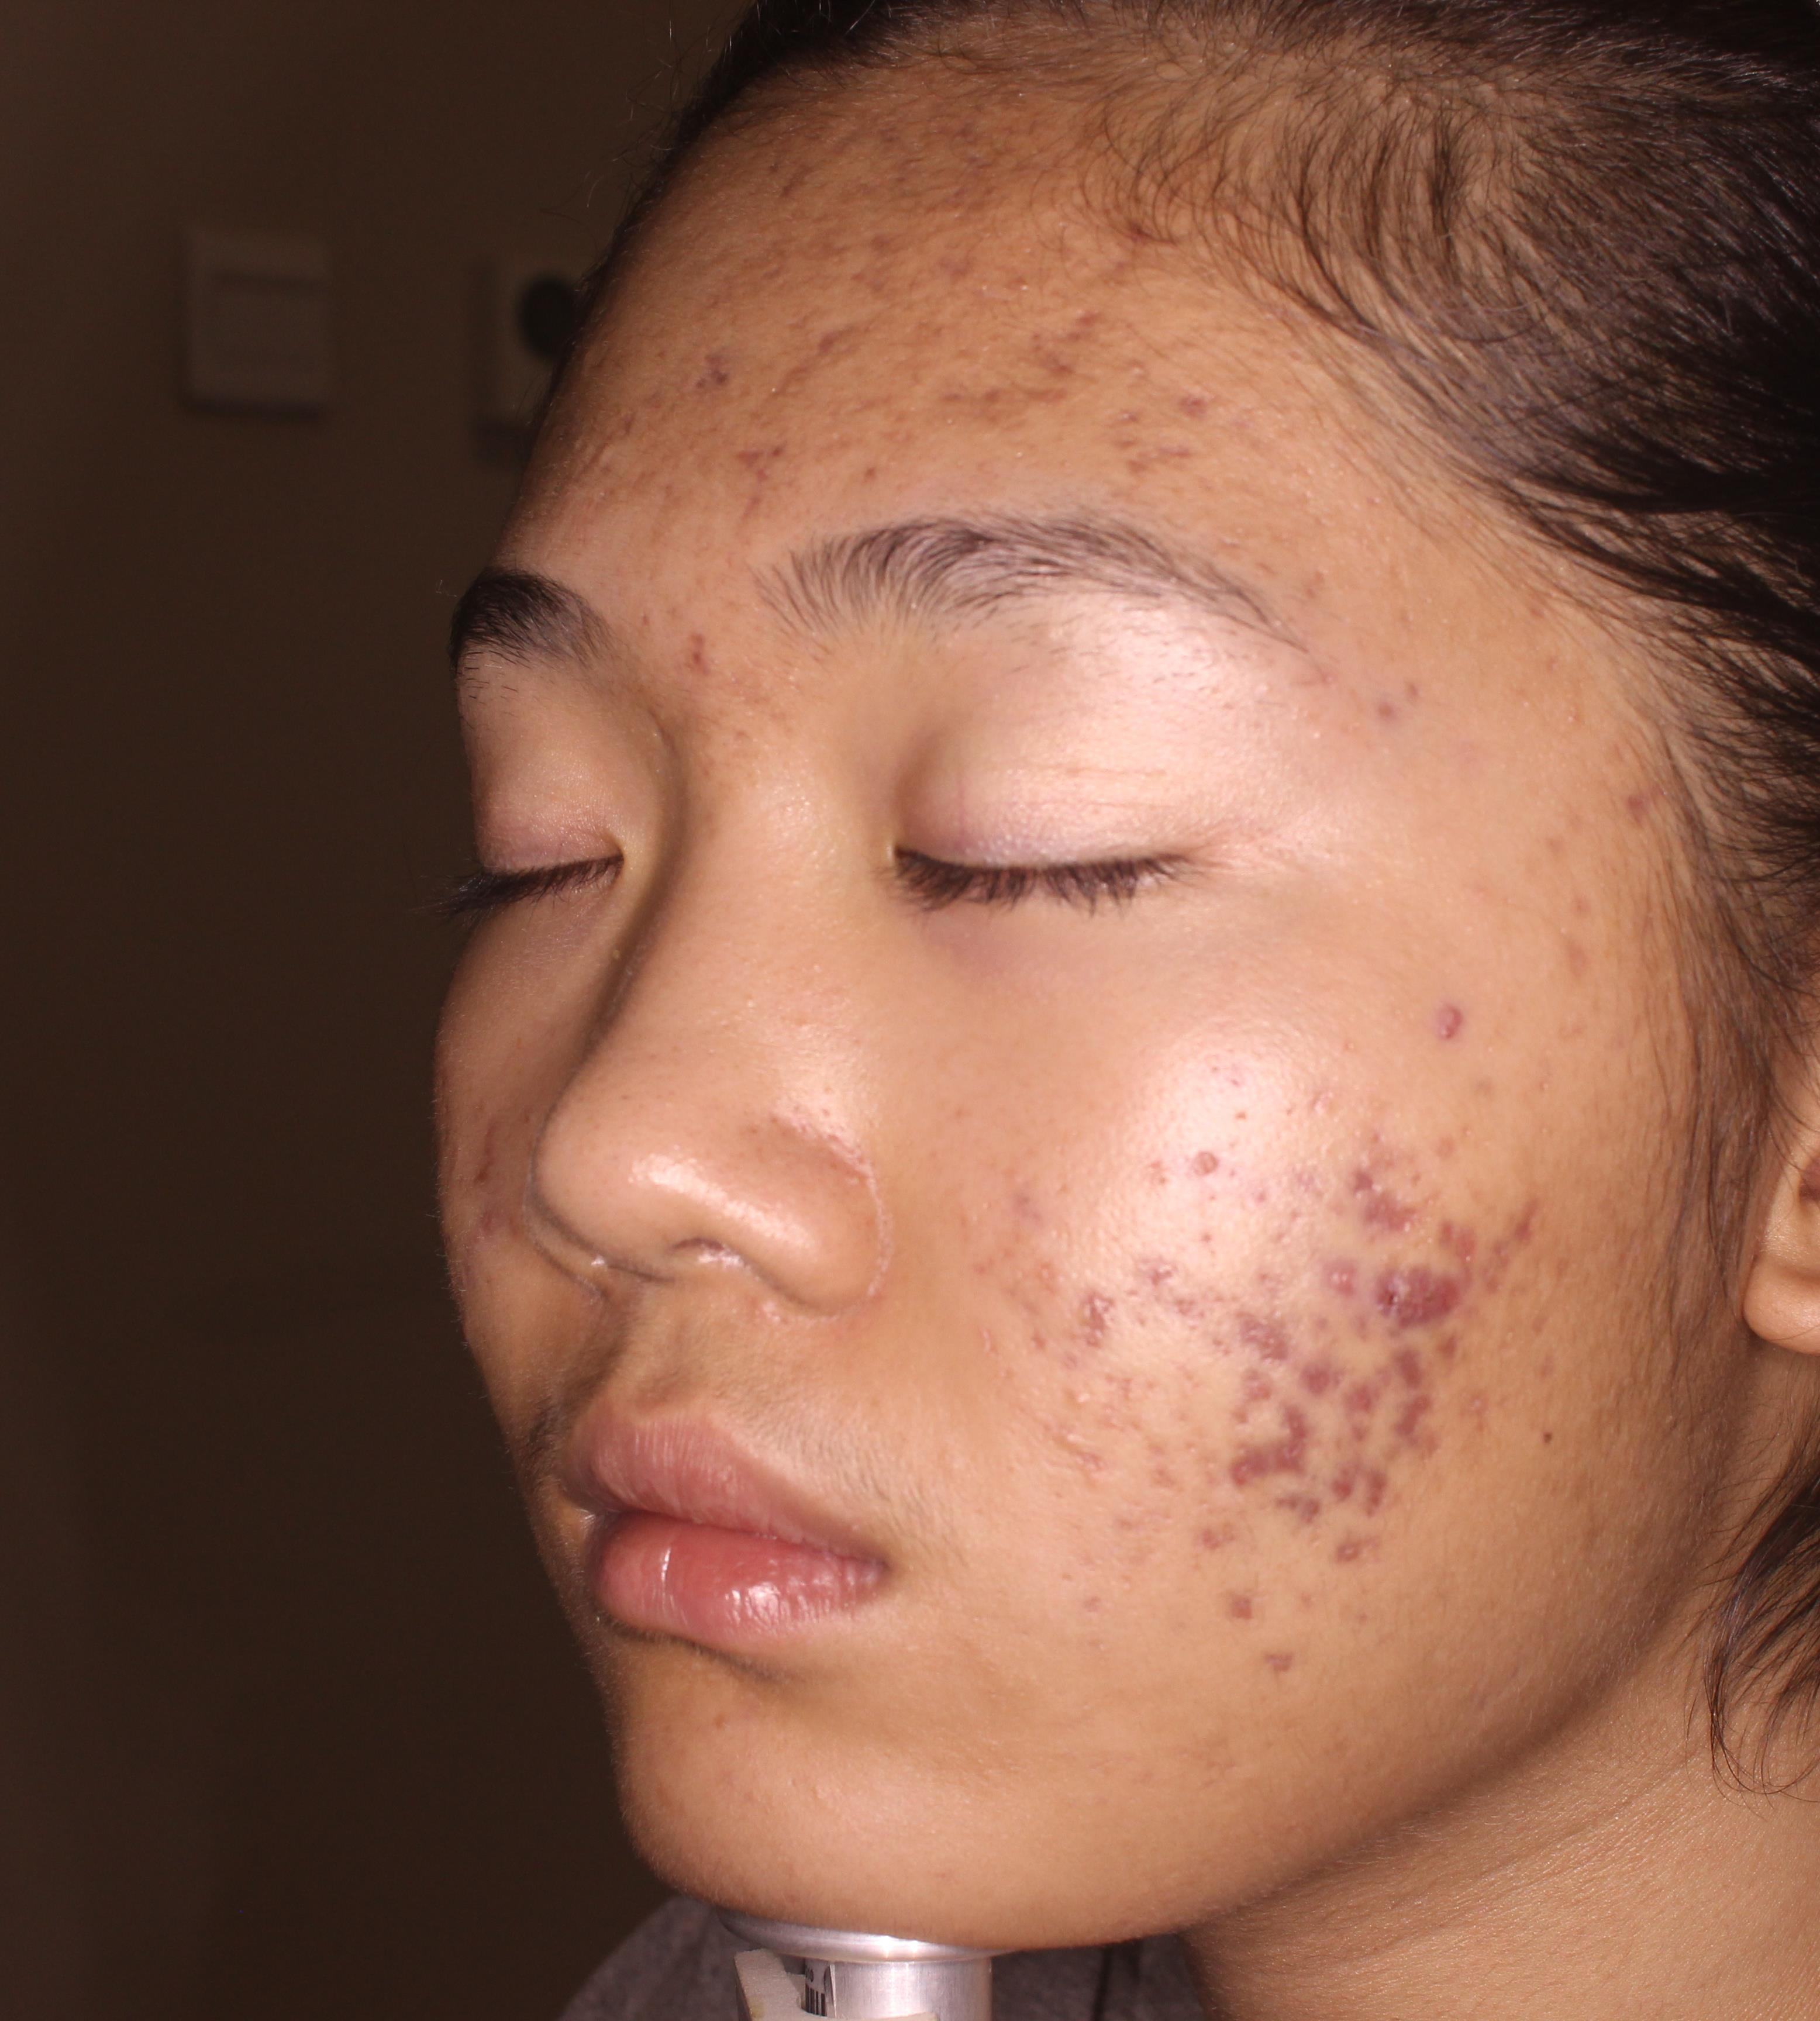fore: (1068, 1262, 1161, 1410), (1091, 388, 1198, 500), (731, 414, 808, 523), (982, 348, 1082, 428), (1288, 1326, 1372, 1415), (673, 613, 762, 697), (1210, 1424, 1282, 1517), (1441, 962, 1507, 1061), (1239, 1280, 1305, 1378), (1260, 1482, 1332, 1571), (1346, 1447, 1421, 1528), (1377, 1326, 1453, 1401), (1430, 1199, 1511, 1262), (1499, 1182, 1579, 1245), (1309, 1248, 1374, 1315), (1377, 1257, 1441, 1320), (1174, 1129, 1240, 1185), (1386, 1401, 1430, 1464), (1360, 1176, 1412, 1222), (1328, 1141, 1377, 1185), (1268, 1428, 1309, 1464)
